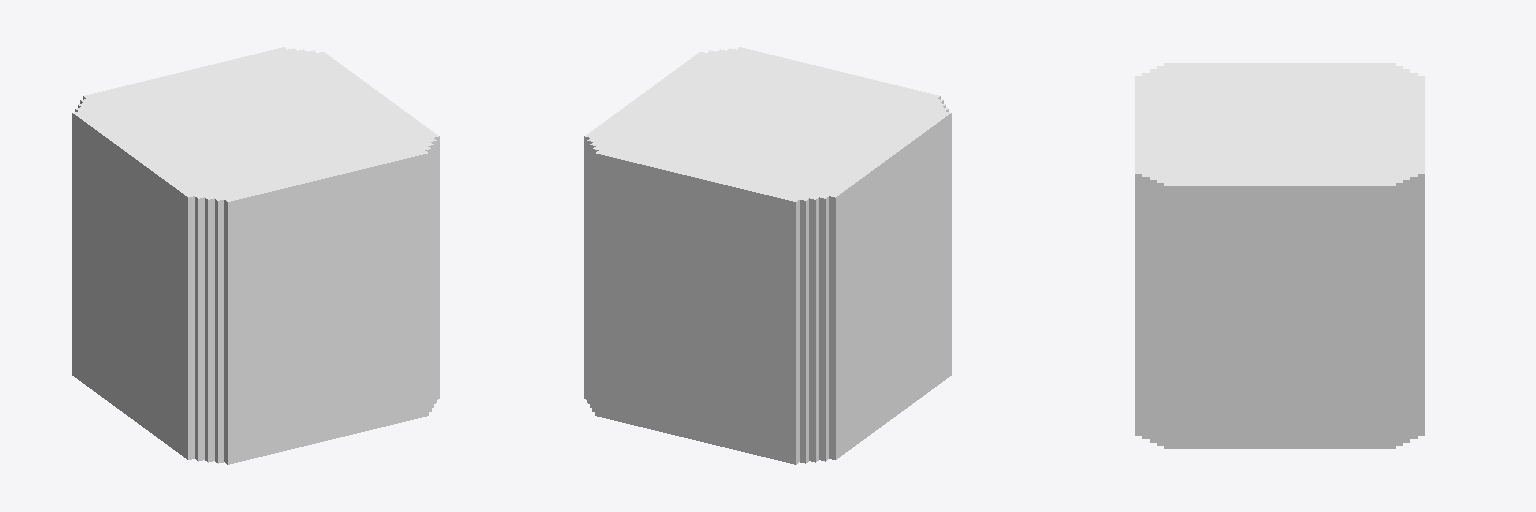
The model's file is papaNoel-10-body.obj.
3 renders of one model, left to right at view 1: azimuth 30°, elevation 25°; view 2: azimuth 150°, elevation 25°; view 3: azimuth 270°, elevation 25°, orthographic.
Visible parts, largest first — view 1: body; view 2: body; view 3: body.
Boxes of the visible parts, x1,y1,x2,y2 form: body: [72, 47, 439, 464]; body: [584, 47, 951, 464]; body: [1135, 63, 1424, 448].
Bounding box in the file's own units: 4 × 4 × 4.